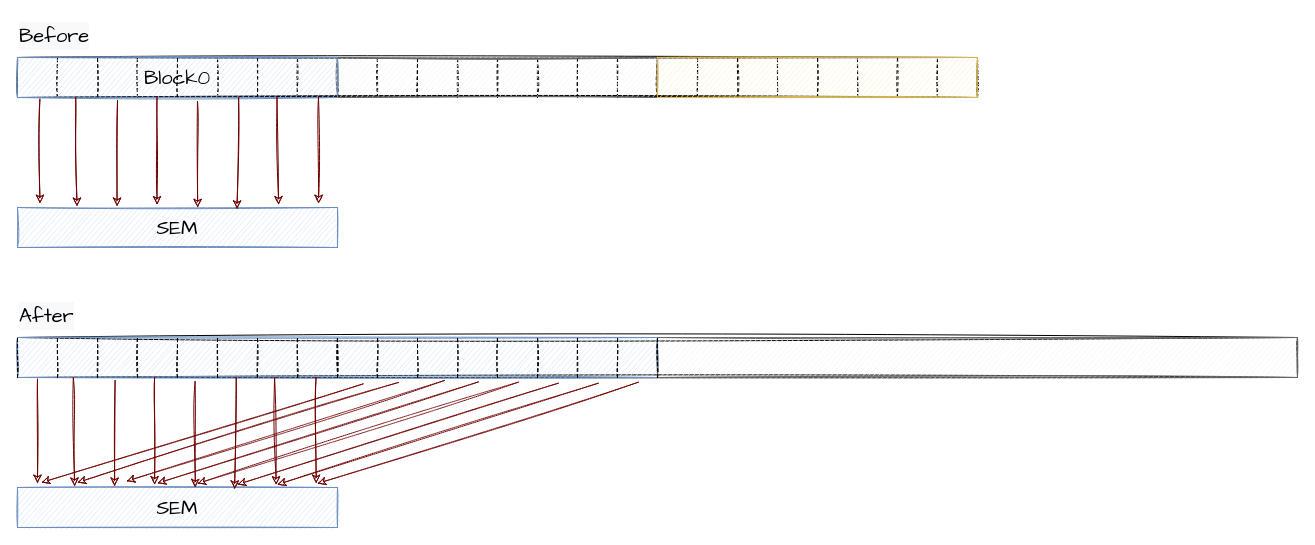
Image size: 1315x545. Some labels were removed from this diagram. Here are the shapes that lost their labels. From the top down, the centre of each, then its label:
At point 497,77: "Block1".
At point 817,77: "Block2".
